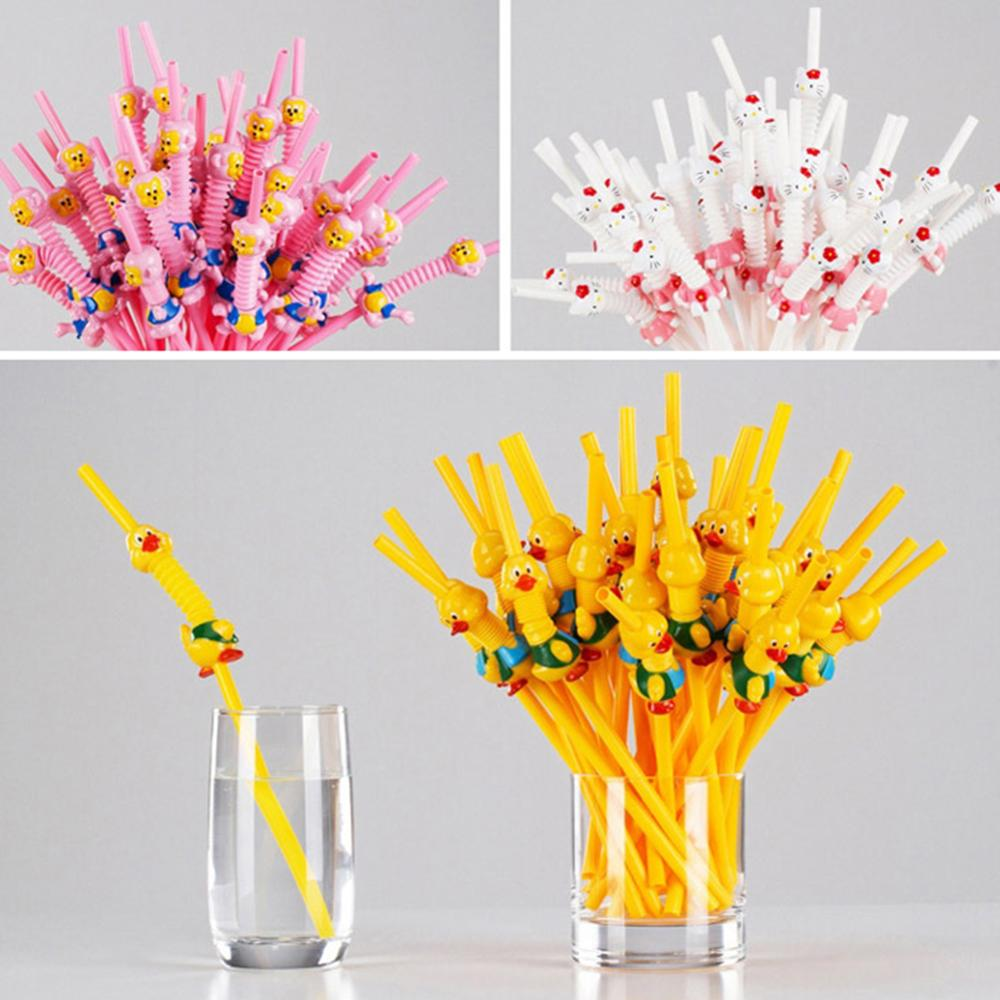Drinking Straw: (69, 458, 342, 950)
